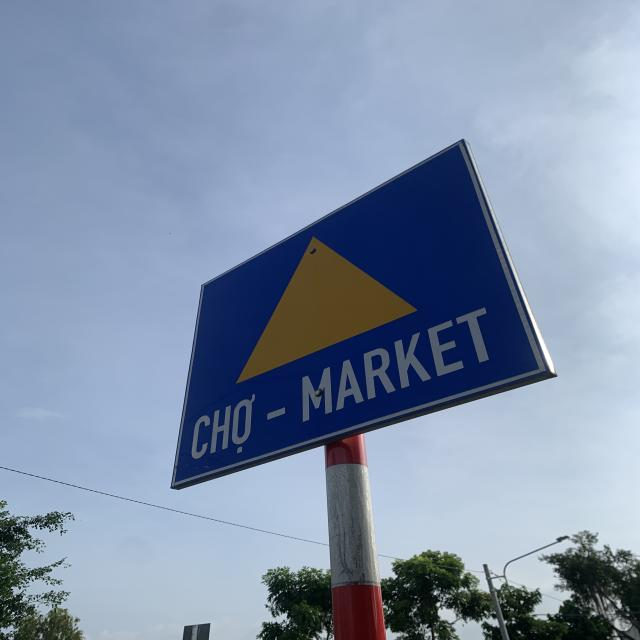Cho_Quay_Xe: (173, 138, 543, 487)
